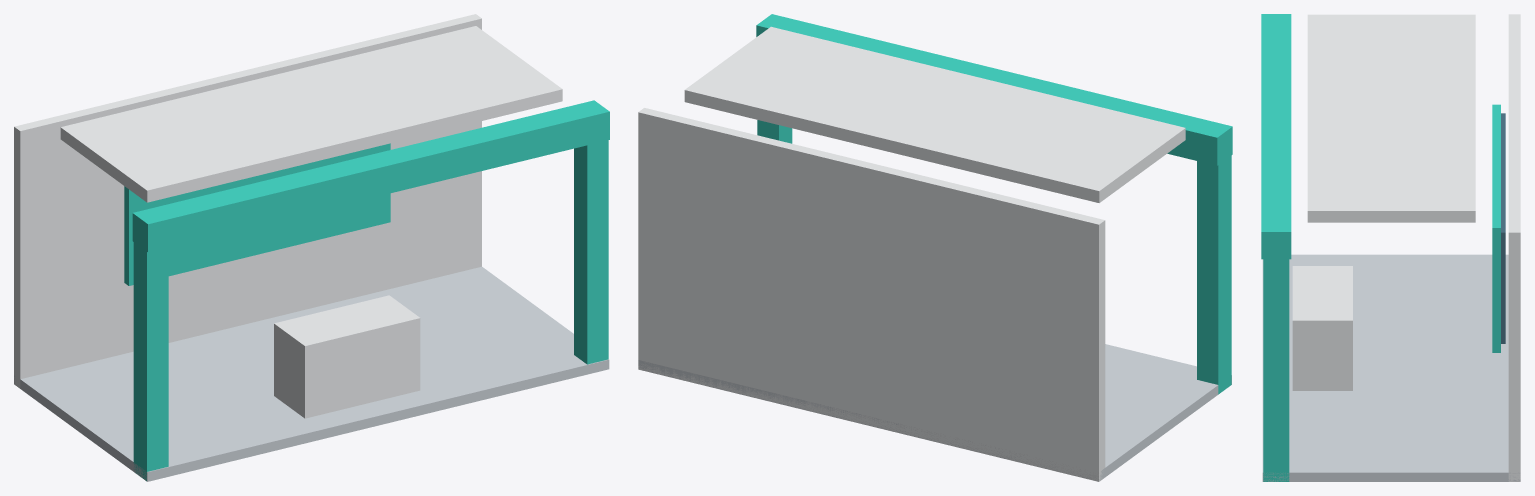
3 renders of one model, left to right at view 1: azimuth 30°, elevation 25°; view 2: azimuth 150°, elevation 25°; view 3: azimuth 270°, elevation 25°, orthographic. The views are drawn at different scales.
Visible parts, largest first — view 1: Exhibition Booth Concept; view 2: Exhibition Booth Concept; view 3: Exhibition Booth Concept.
Boxes of the visible parts, left/top/right/bottom form: Exhibition Booth Concept: left=14, top=14, right=609, bottom=481; Exhibition Booth Concept: left=638, top=14, right=1232, bottom=481; Exhibition Booth Concept: left=1261, top=14, right=1520, bottom=481.
Bounding box in the file's own units: 6 × 3.34 × 3.01.
